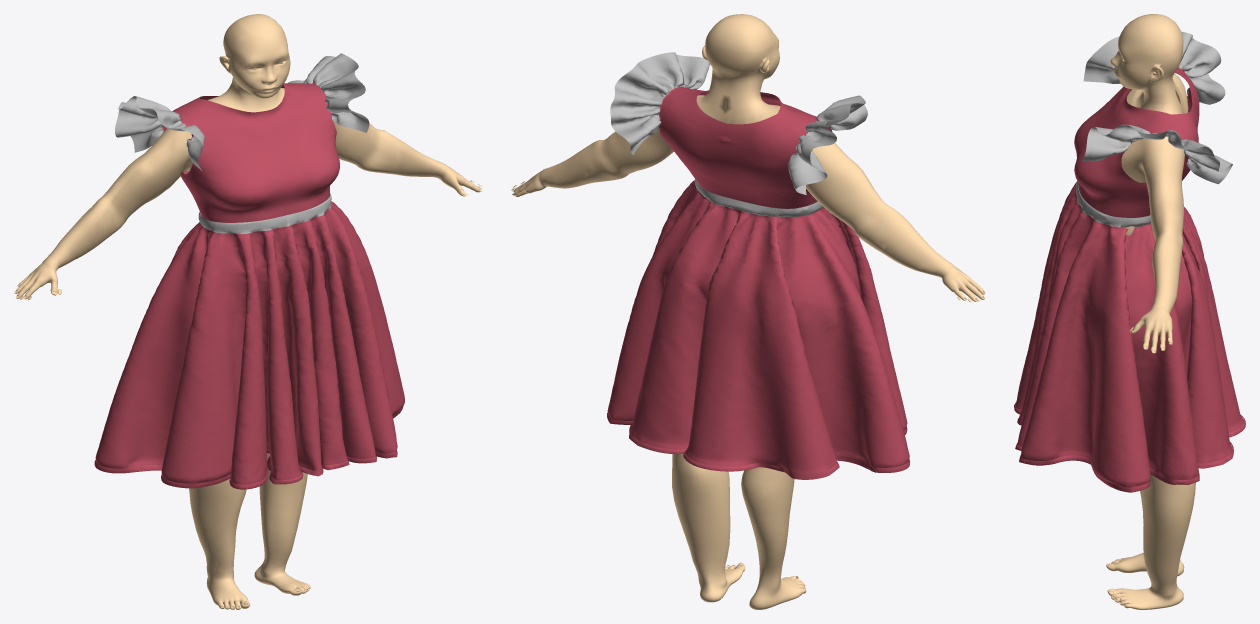
File: dress4.glb
3 views of the same model, side by side, from view 1: azimuth 30°, elevation 25°; view 2: azimuth 150°, elevation 25°; view 3: azimuth 270°, elevation 25° (orthographic).
Parts seen in each view (by area): view 1: PinkDrees#14 (OBJ), Body; view 2: PinkDrees#14 (OBJ), Body; view 3: PinkDrees#14 (OBJ), Body.
Part boxes in pixels (<box>): PinkDrees#14 (OBJ): <box>94,53,404,489</box>; Body: <box>14,14,481,609</box>; PinkDrees#14 (OBJ): <box>607,52,910,479</box>; Body: <box>512,14,985,609</box>; PinkDrees#14 (OBJ): <box>1014,31,1245,492</box>; Body: <box>1106,14,1195,609</box>.
Bounding box in the file's own units: 1.59 × 1.88 × 0.6849.
